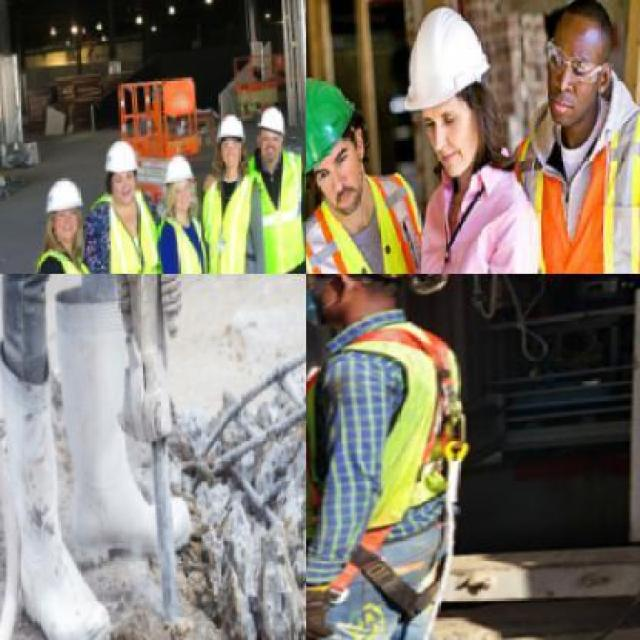Vest: (306, 311, 491, 574), (506, 105, 639, 272), (306, 160, 449, 272), (244, 148, 304, 272), (198, 168, 268, 272), (99, 185, 172, 272), (160, 203, 223, 272)
